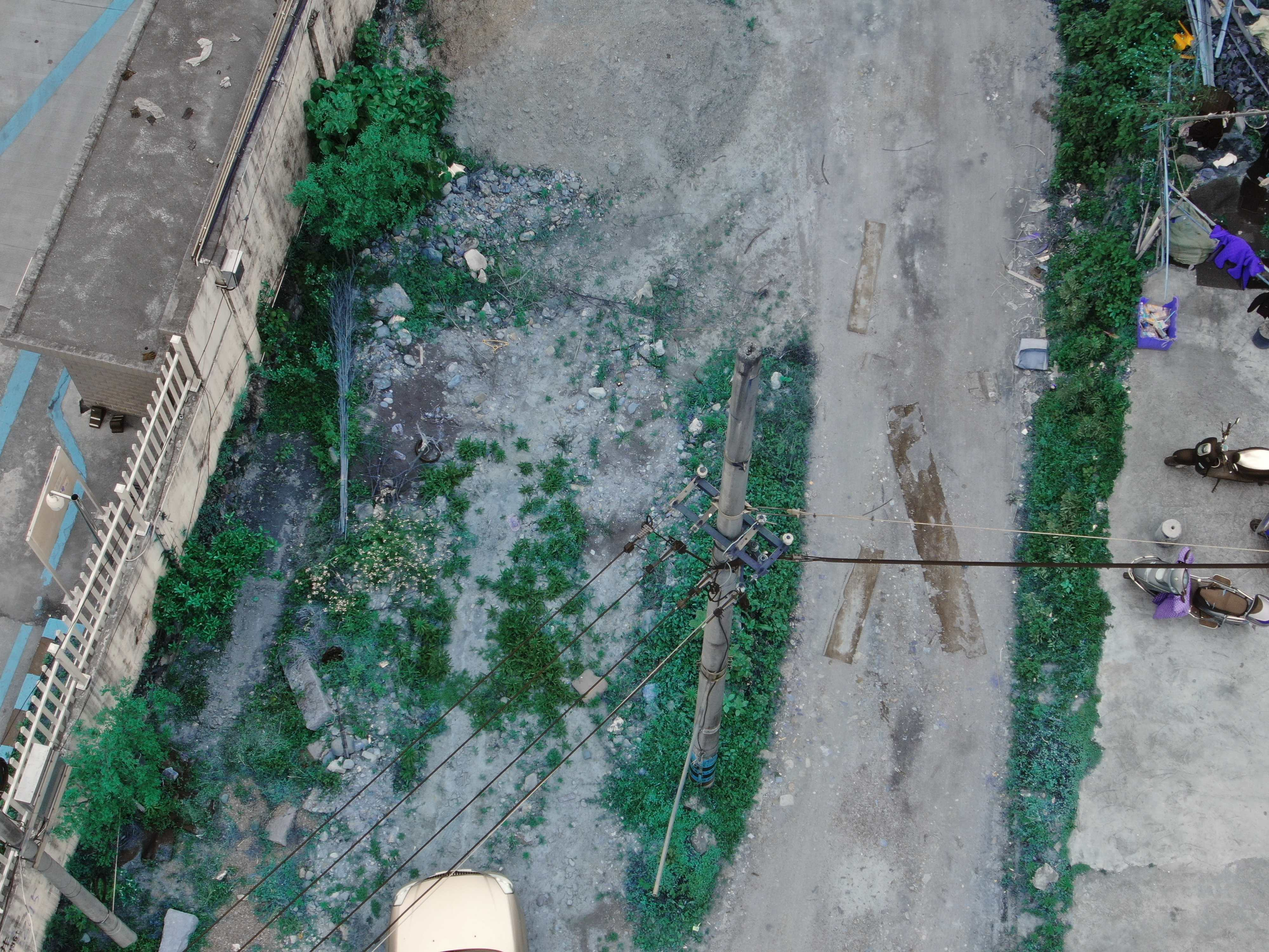severe_soiling_no_discharge_whole: (753, 511, 770, 527), (748, 539, 762, 552), (757, 552, 770, 565), (734, 580, 747, 593)
